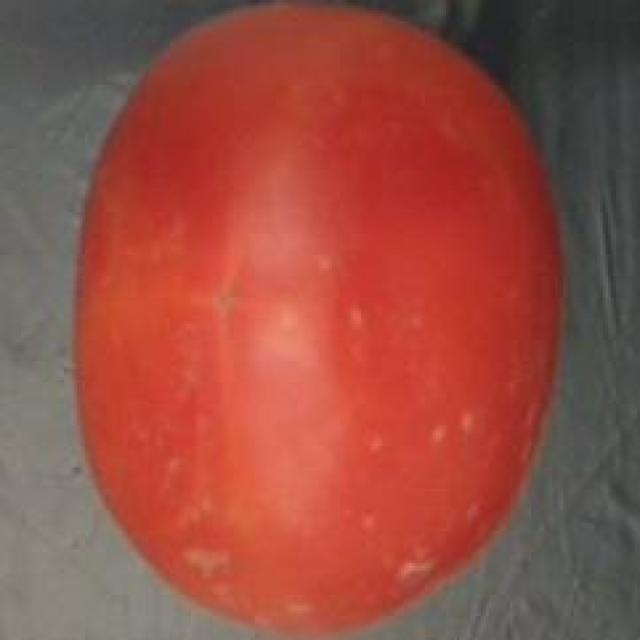overripe tomato: (63, 2, 573, 640)
